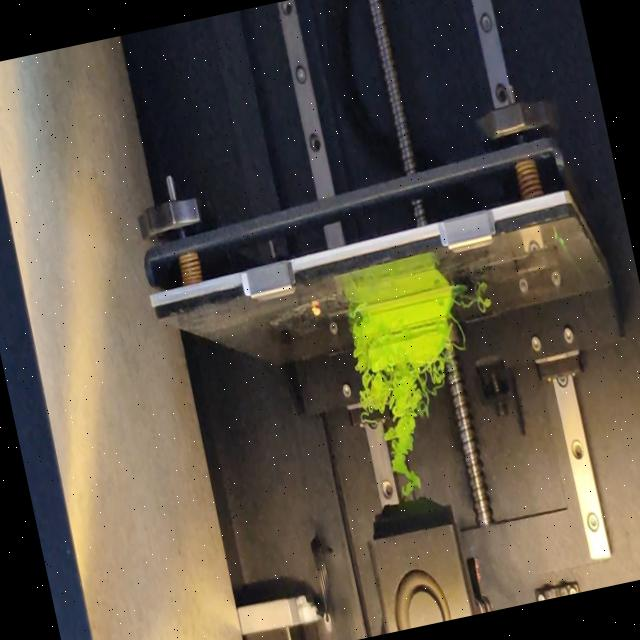spaghetti: (353, 353, 472, 508), (340, 298, 370, 368), (450, 280, 500, 317), (448, 318, 472, 358)
